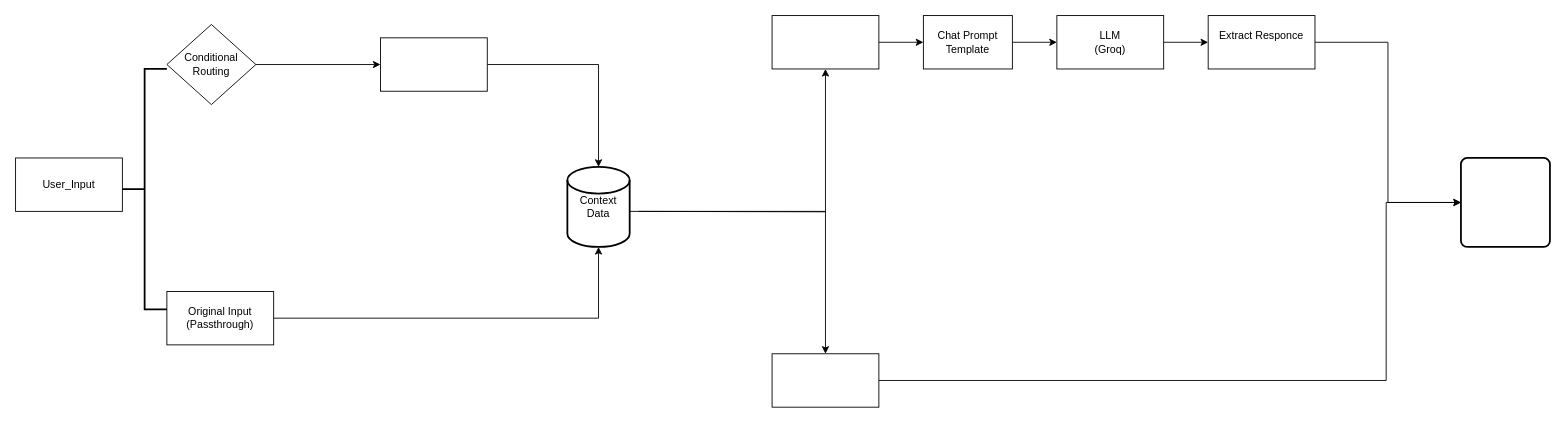
Some shapes in this 1566 by 423 pixel diagram are drawn without their labels. The shapes that lost their labels are listed below. From the top down, each one's centre as x and y in pixels, then its label:
point 825,42: Formal Prompt Template
point 433,64: Context Retrieval Logic
point 1505,202: Output Responce (Answer + Source Context)
point 825,380: Context Data (Passthrough)
